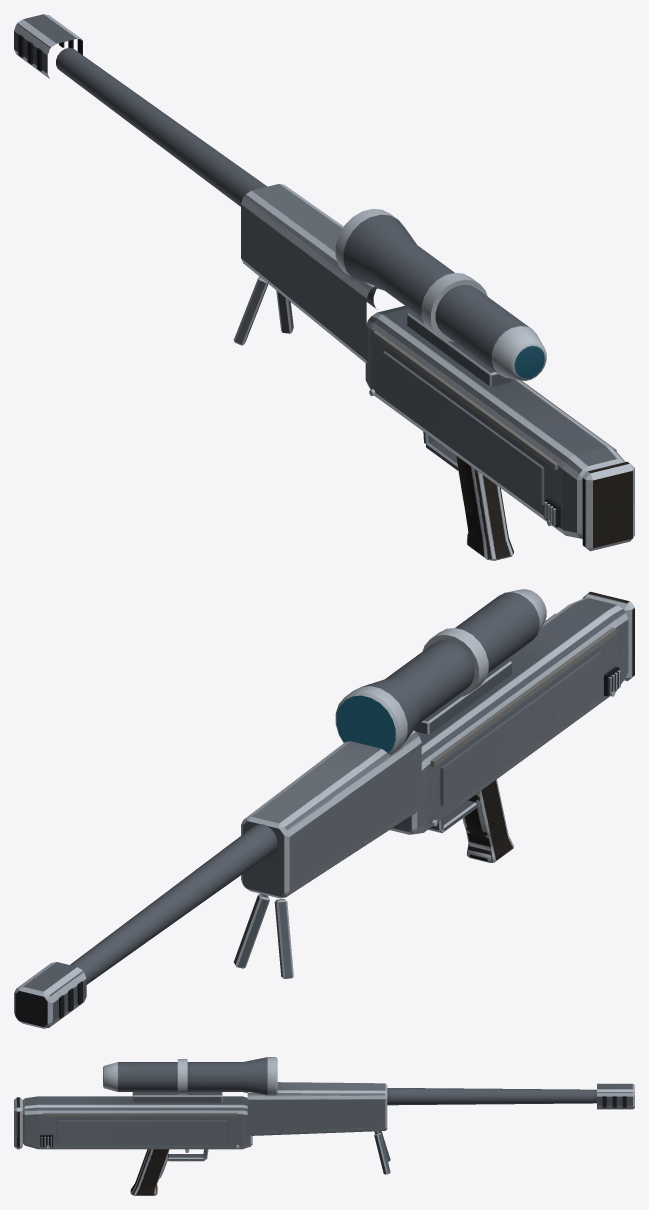
3 views of the same model, one above another, from view 1: azimuth 30°, elevation 25°; view 2: azimuth 150°, elevation 25°; view 3: azimuth 270°, elevation 25° (orthographic). The views are drawn at different scales.
Visible parts, largest first — view 1: body; view 2: body; view 3: body.
Boxes of the visible parts, left/top/right/bottom form: body: left=14, top=14, right=634, bottom=560; body: left=14, top=589, right=634, bottom=1028; body: left=14, top=1057, right=634, bottom=1195.
Bounding box in the file's own units: 0.083 × 0.2945 × 1.24.
Materials: 1 (1 with a texture image).
